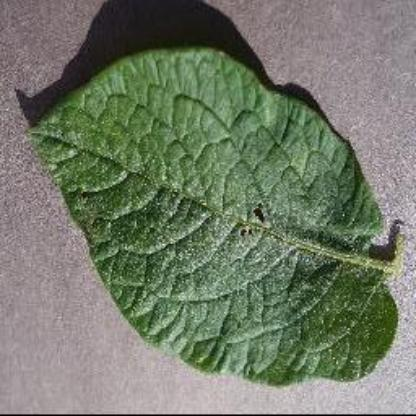Healthy-plant: (26, 44, 408, 382)
